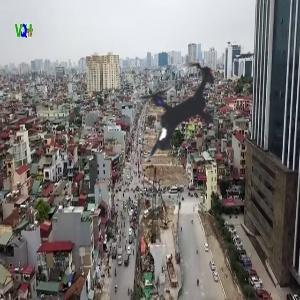drone: (94, 24, 262, 192)
